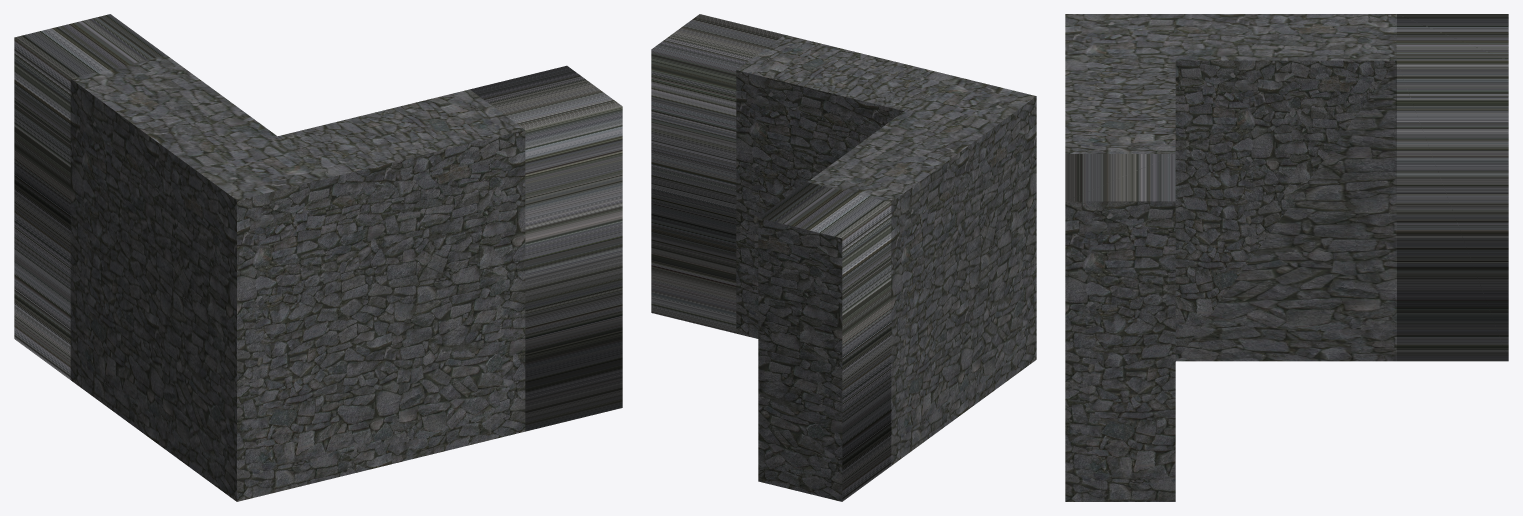
Rendered from cornerWall.obj.
3 views of the same model, side by side, from view 1: azimuth 30°, elevation 25°; view 2: azimuth 150°, elevation 25°; view 3: azimuth 270°, elevation 25° (orthographic). The views are drawn at different scales.
Visible parts, largest first — view 1: Cube.001; view 2: Cube.001; view 3: Cube.001.
Part boxes in pixels (x1,y1,x2,y2): Cube.001: [14, 14, 622, 501]; Cube.001: [651, 14, 1036, 501]; Cube.001: [1065, 14, 1508, 501].
Bounding box in the file's own units: 8.03 × 6 × 8.02.
Materials: 1 (1 with a texture image).
